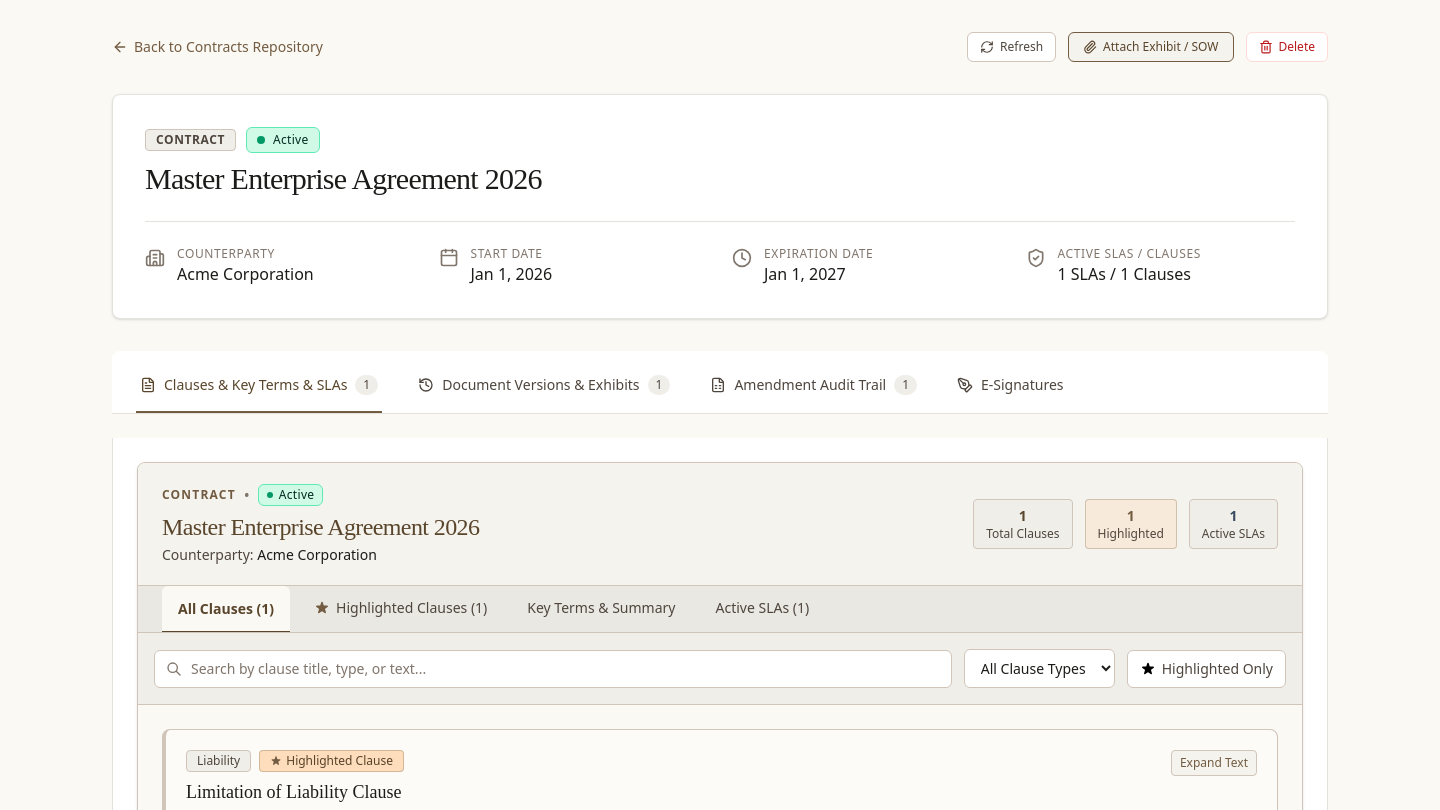
Test: ContractDetailPage Component › switches between tabs (Versions, Amendments, E-Signatures) when clicked
Note: Click Document Versions tab
Click the tab with test id "tab-versions".
click(544, 386)  # box [414,359,674,413]
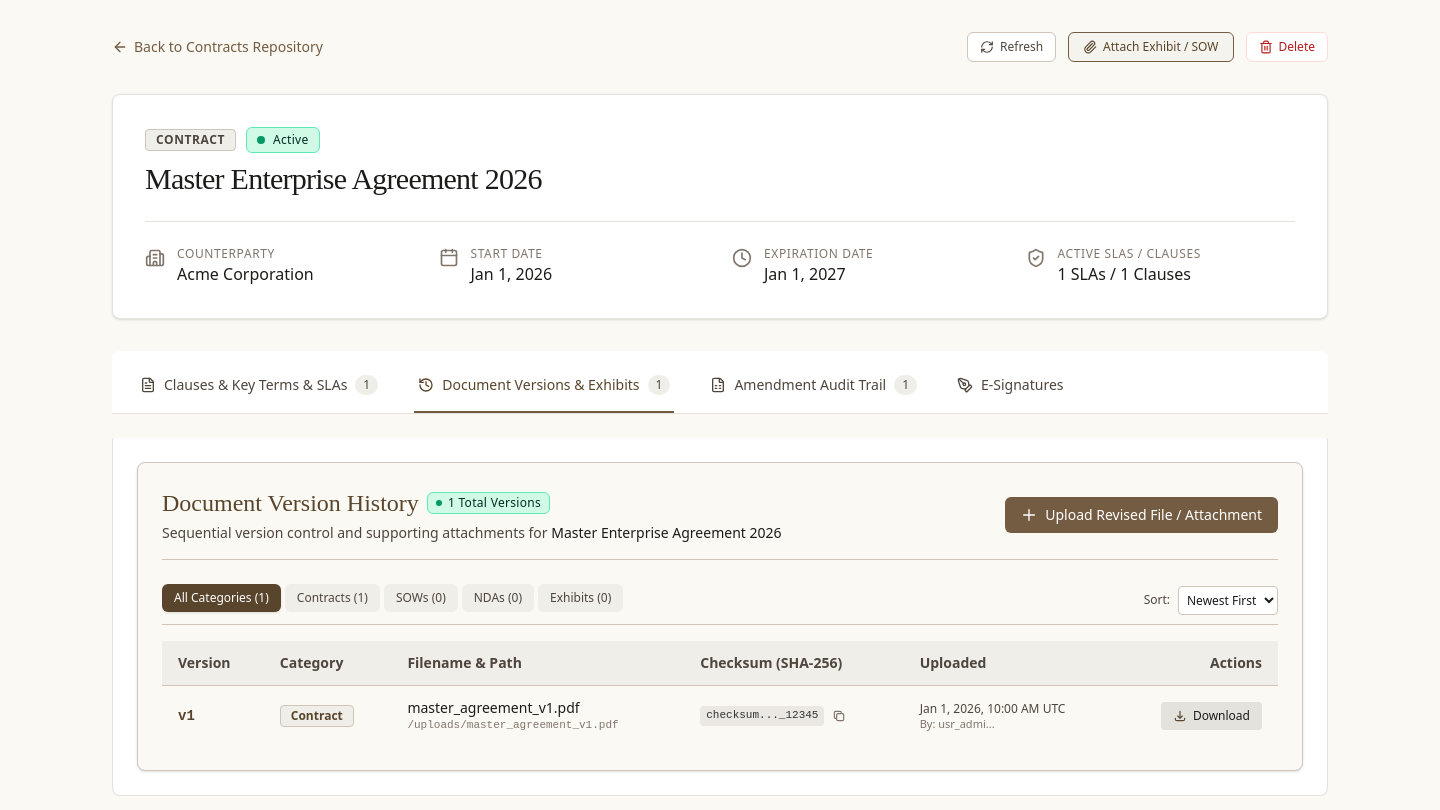
Expected: the panel with test id "versions-tab-panel" is shown, [137,462,1303,771]
Note: Click Amendment Audit Trail tab
Click the tab with test id "tab-amendments".
click(814, 386)  # box [706,359,921,413]
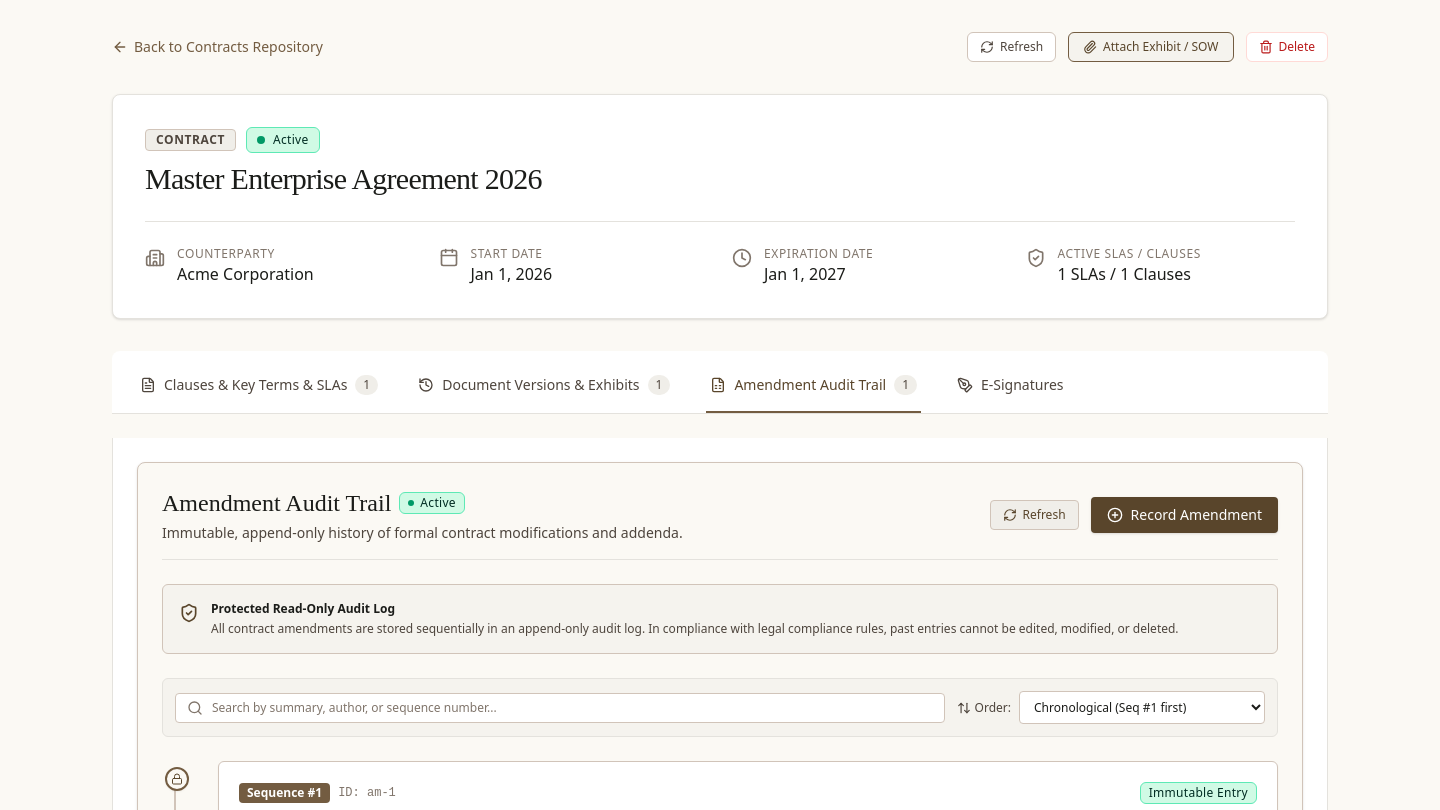
Note: Click E-Signatures tab
Click the tab with test id "tab-signature".
click(1010, 386)  # box [953,359,1068,413]
(page scrolled)
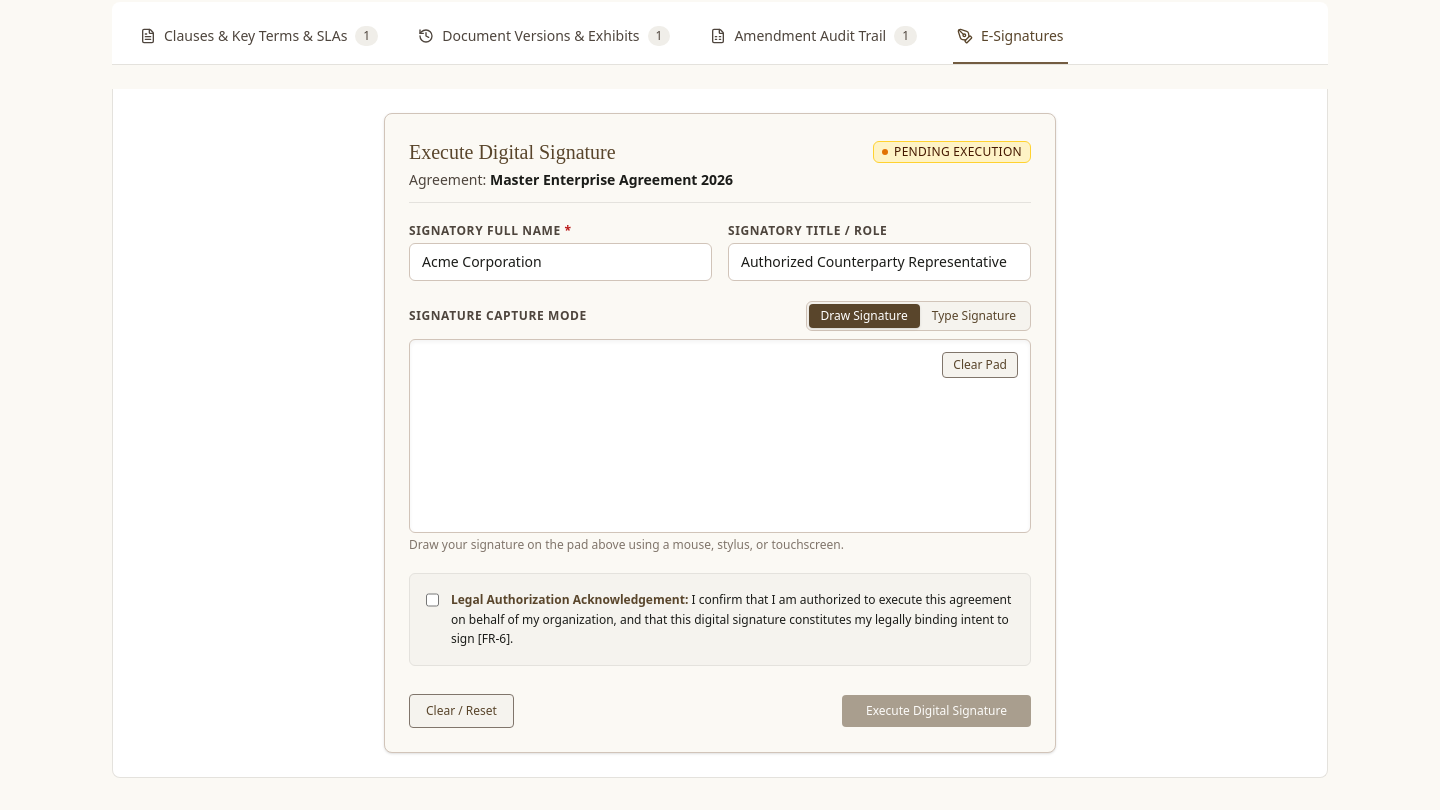
Expected: the panel with test id "signature-tab-panel" is shown, [384,113,1056,752]
